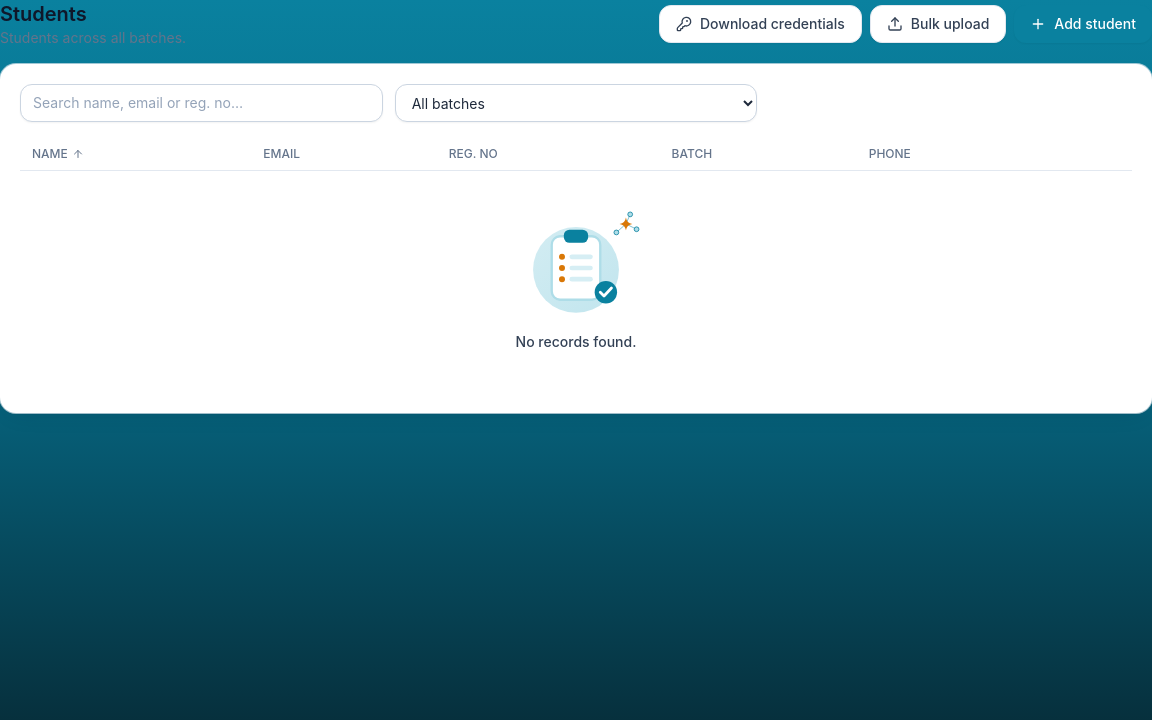
Scenario: students page – download credentials › shows the server error and lets the admin retry
Click the button "Download credentials" at (760, 24), box [659,5,862,43]
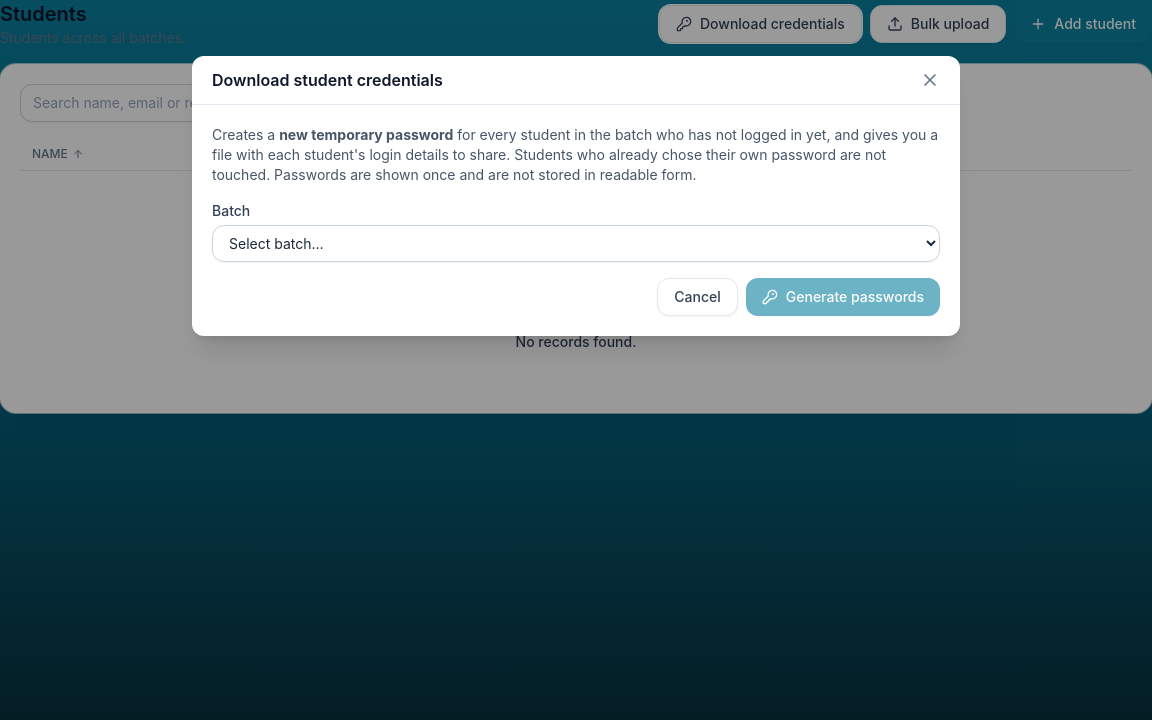
Select "C1 – Credential batch" in the dropdown labelled "Batch" at (576, 244), box [212,225,940,262]
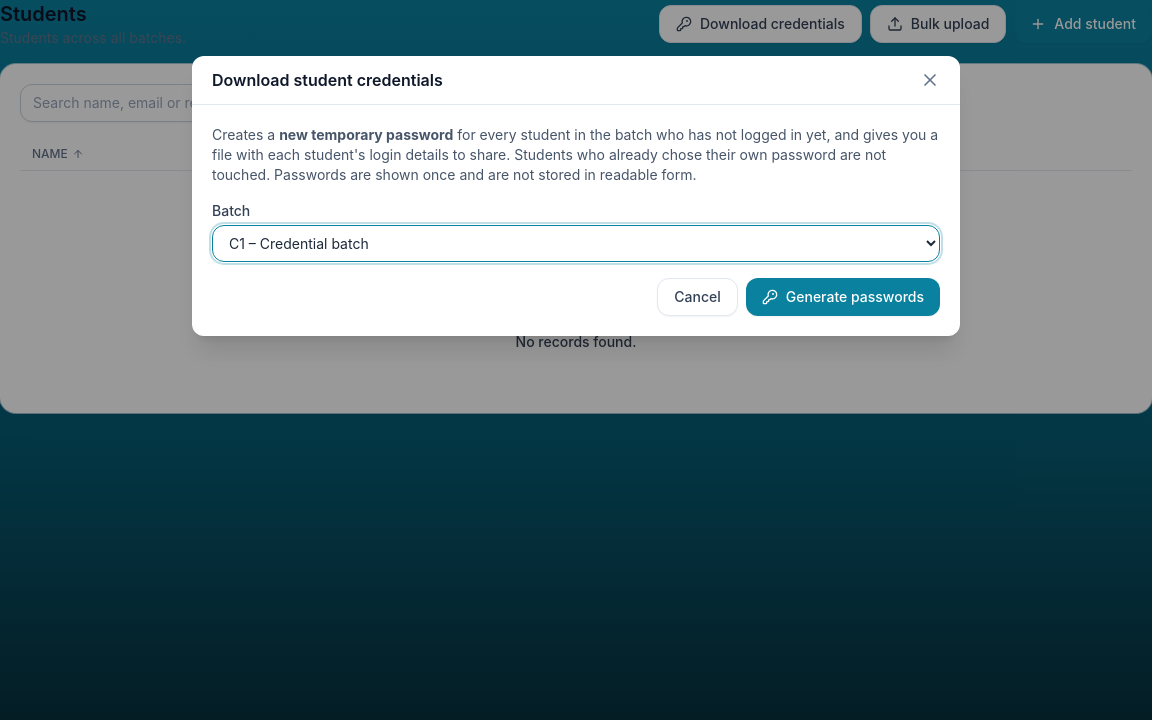
Click the button "Generate passwords" at (843, 297), box [746,278,940,316]
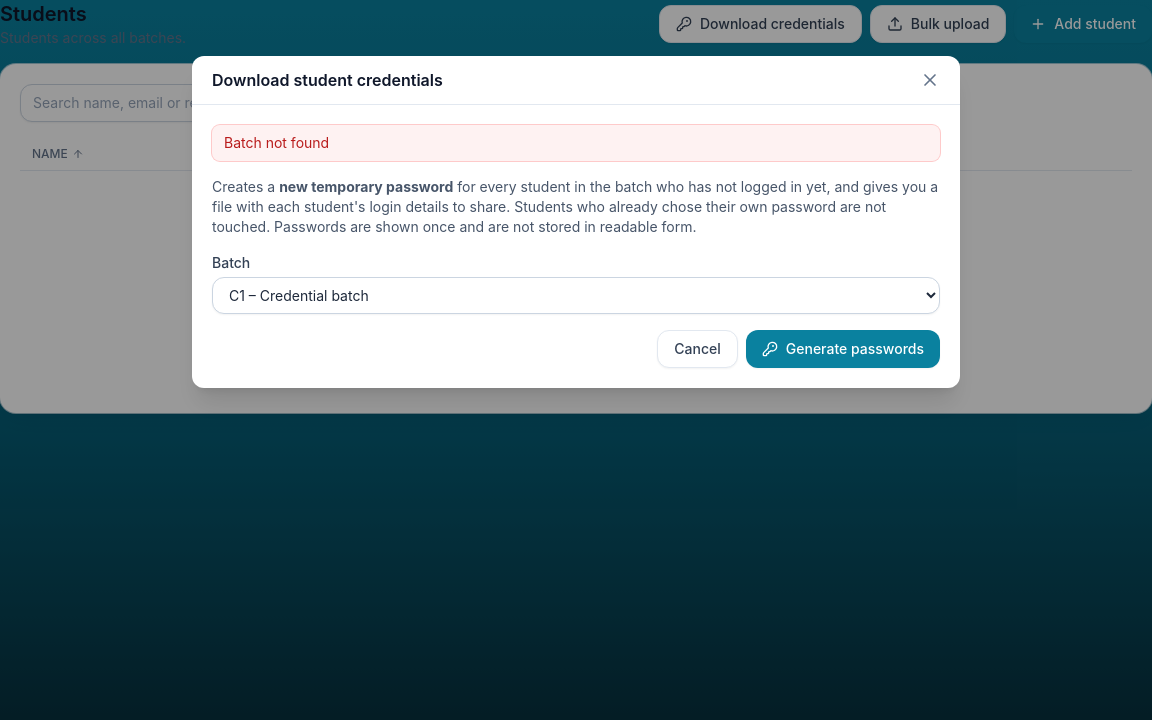
Check: the button "Generate passwords" is enabled, box [746,330,940,368]
Check: the message reads "Batch not found", box [224,134,329,151]
